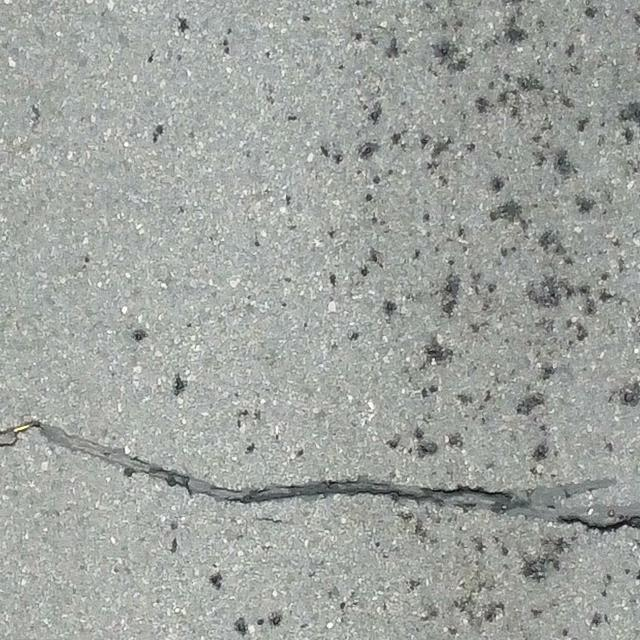TransverseCrack: (1, 421, 640, 531)
